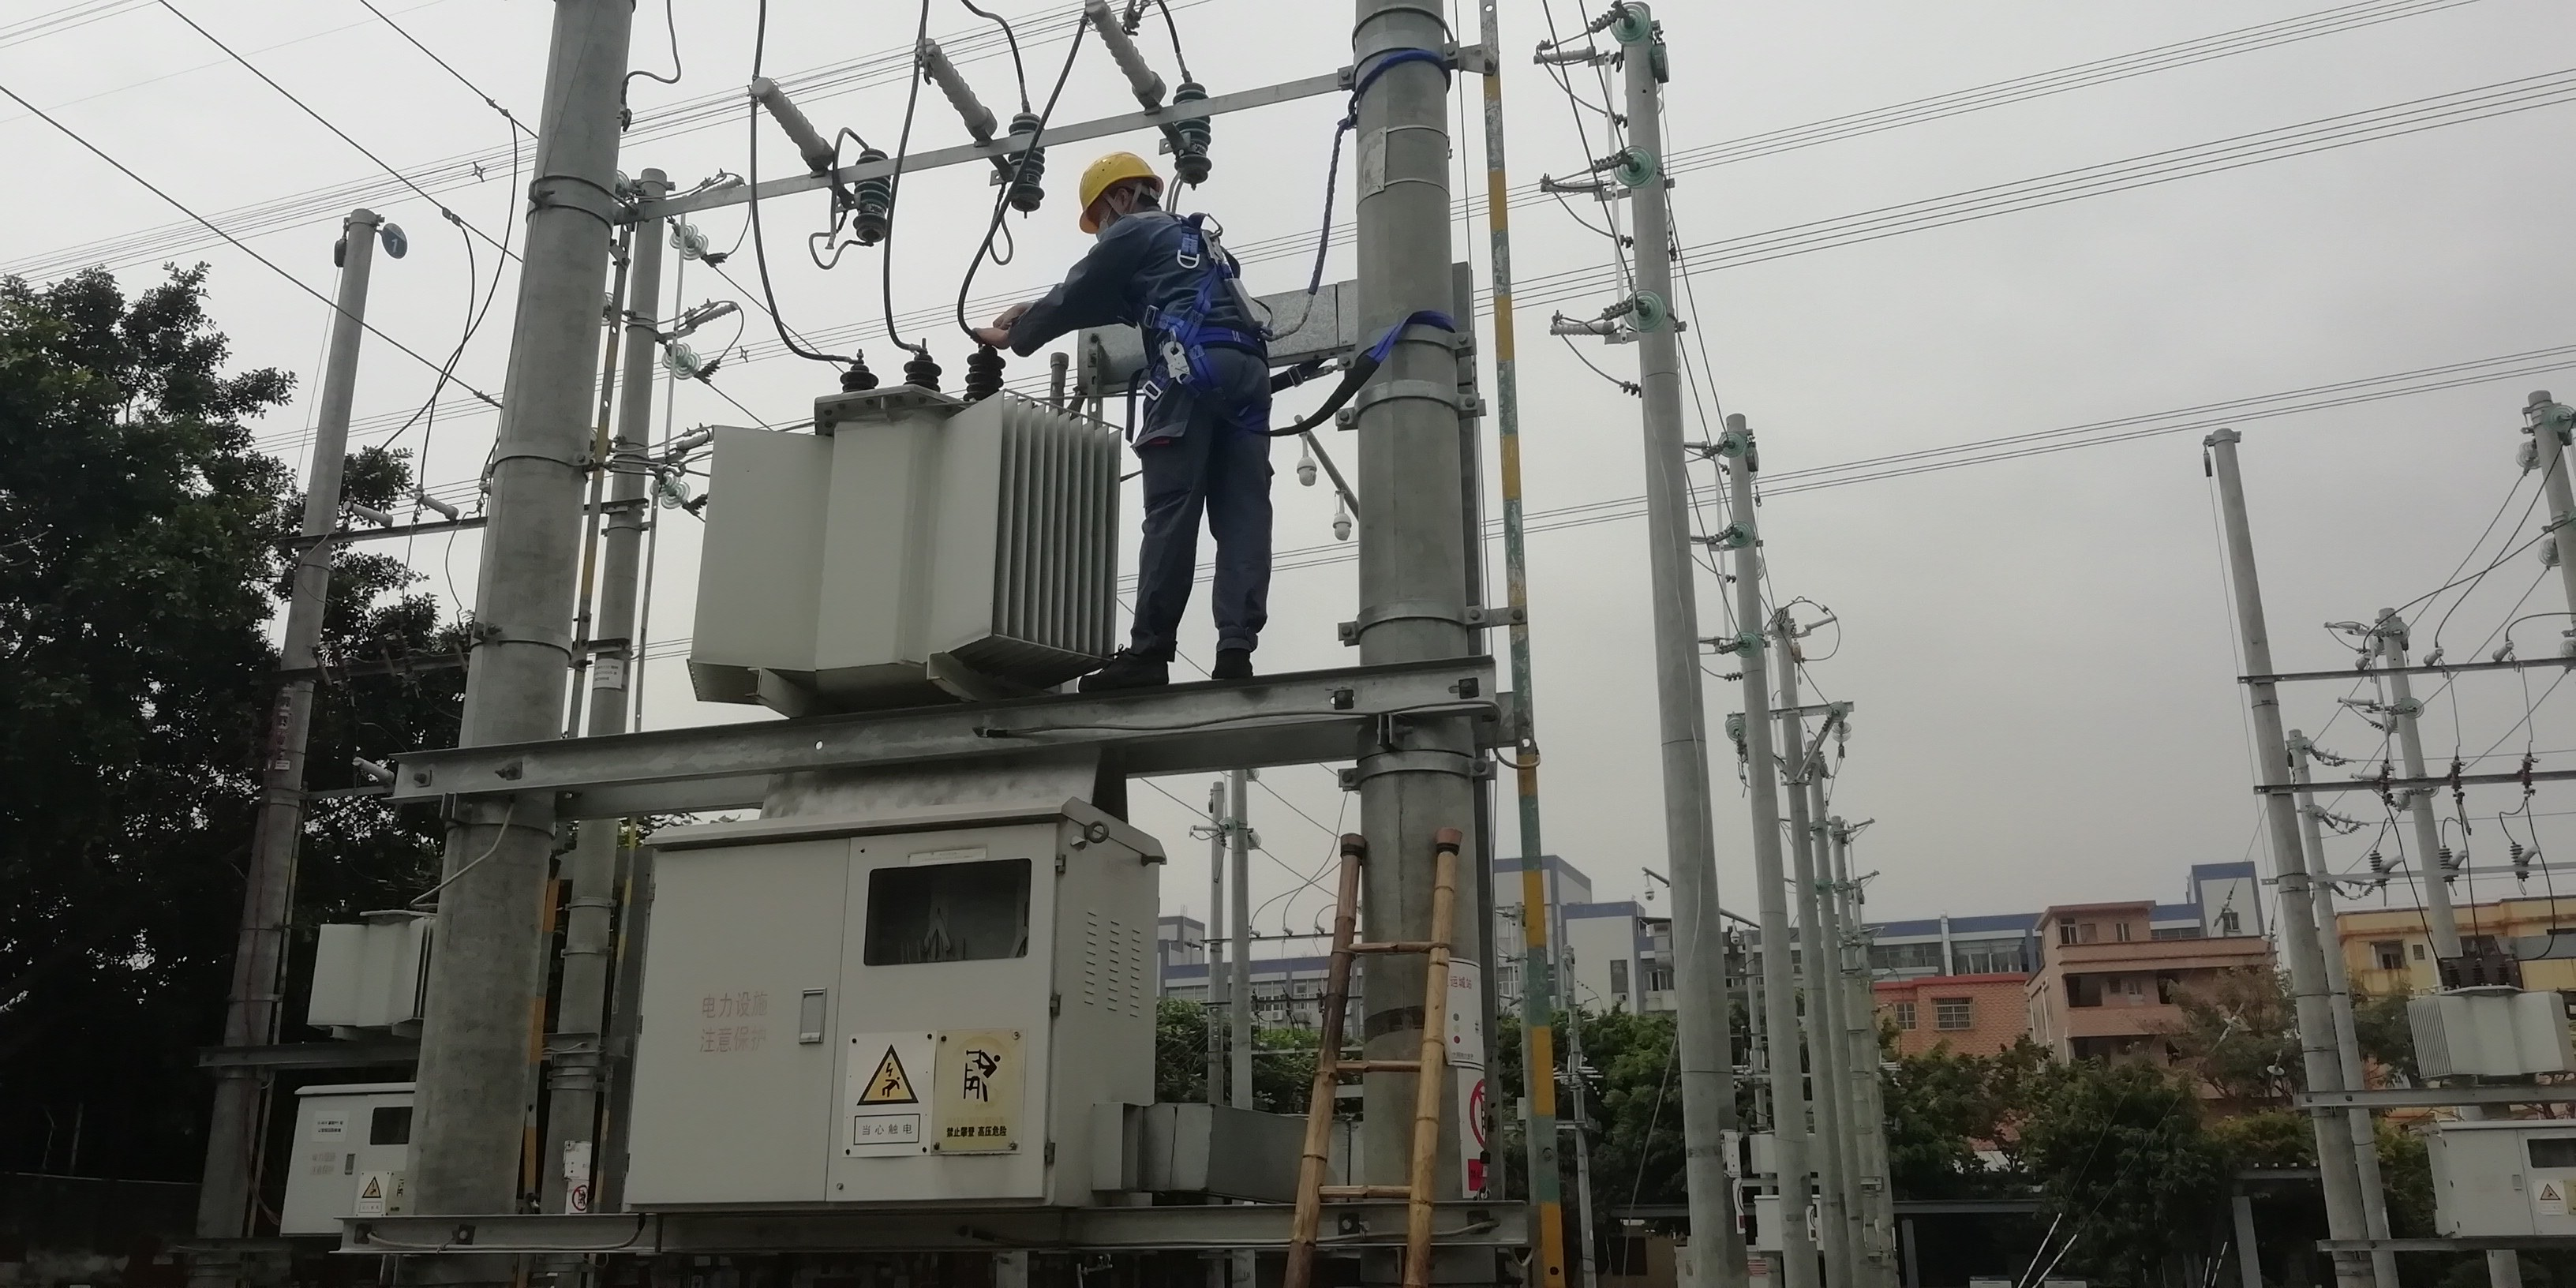downsuit: (1129, 383, 1281, 644)
upsuit: (1037, 219, 1263, 368)
